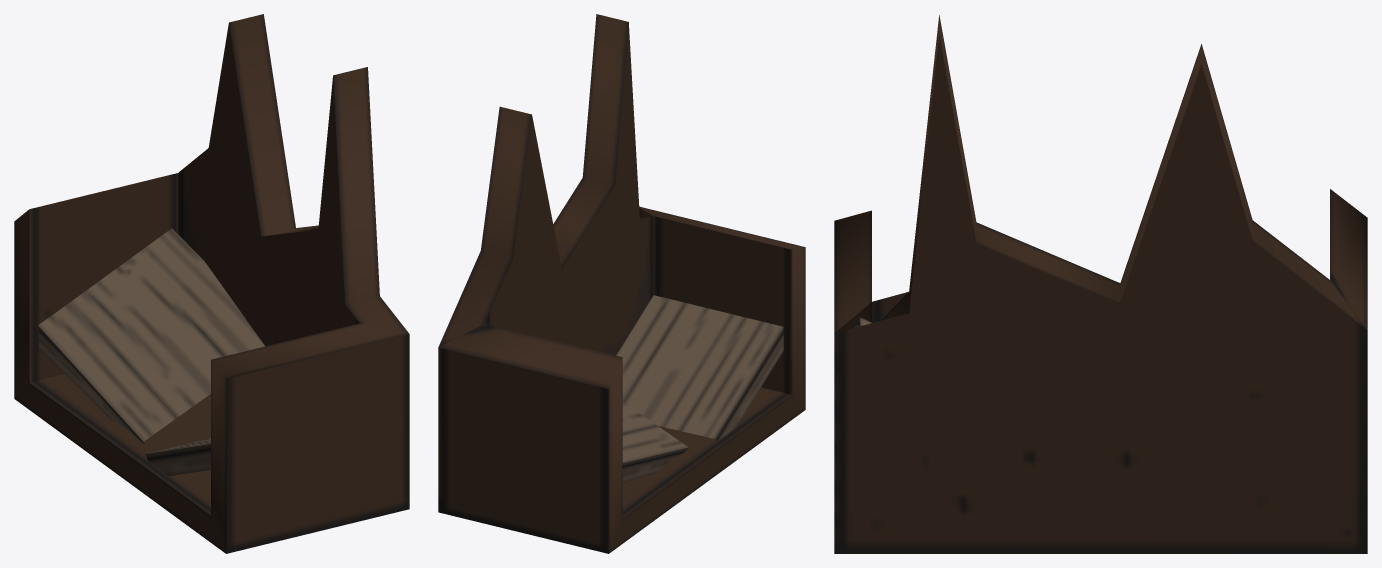
File: Shelf.destroyed.fbx
3 renders of one model, left to right at view 1: azimuth 30°, elevation 25°; view 2: azimuth 150°, elevation 25°; view 3: azimuth 270°, elevation 25°, orthographic. The views are drawn at different scales.
Parts seen in each view (by area): view 1: Shelf_Destr; view 2: Shelf_Destr; view 3: Shelf_Destr.
Boxes of the visible parts, x1,y1,x2,y2 form: Shelf_Destr: (14,14,409,553); Shelf_Destr: (438,14,805,553); Shelf_Destr: (834,15,1367,553).
Bounding box in the file's own units: 0.5 × 1.07 × 1.
1 material, 1 textured.
